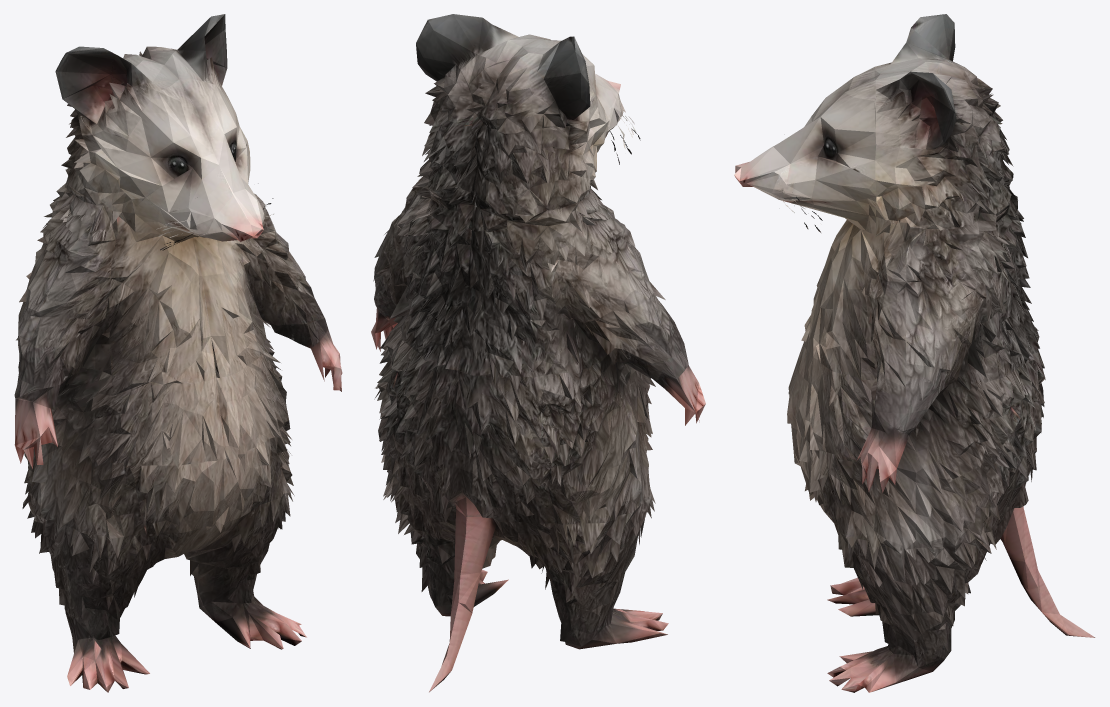
File: possum.glb
3 renders of one model, left to right at view 1: azimuth 30°, elevation 25°; view 2: azimuth 150°, elevation 25°; view 3: azimuth 270°, elevation 25°, orthographic.
Visible parts, largest first — view 1: world; view 2: world; view 3: world.
Boxes of the visible parts, left/top/right/bottom form: world: left=14, top=14, right=342, bottom=692; world: left=371, top=14, right=705, bottom=692; world: left=734, top=14, right=1095, bottom=692.
Bounding box in the file's own units: 0.5604 × 0.9986 × 0.548.
1 material, 1 textured.
